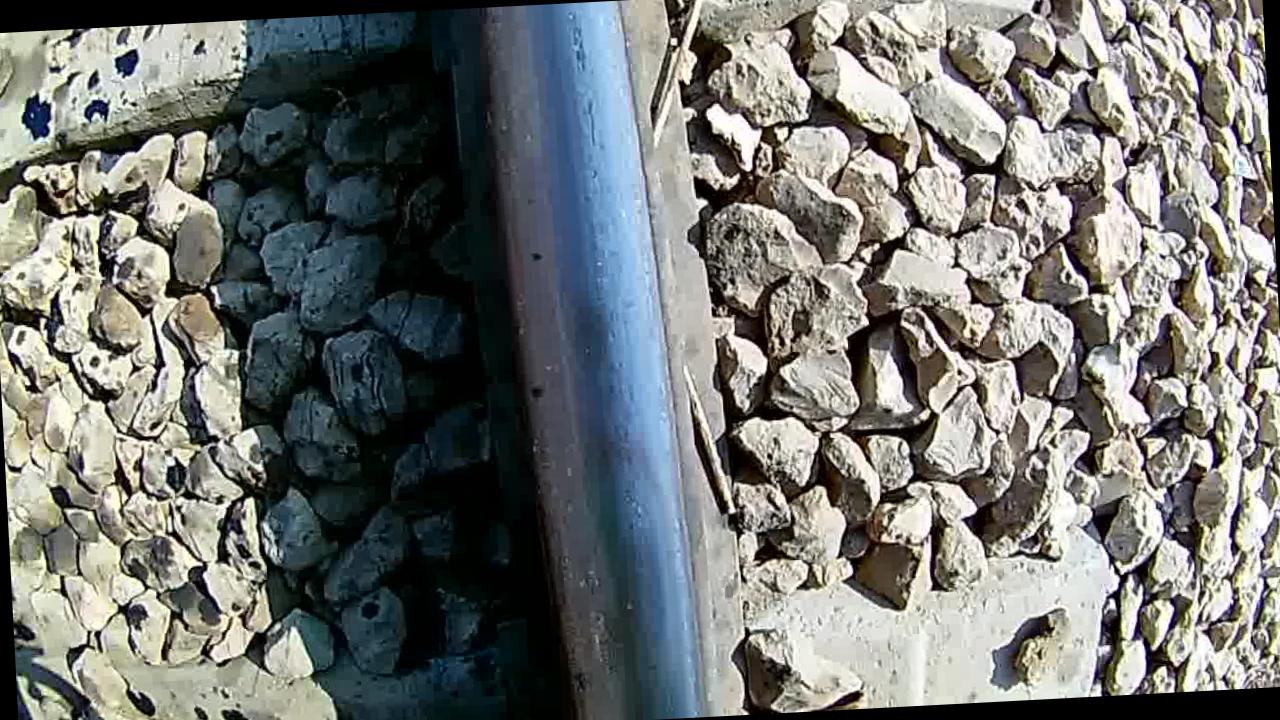crack: (482, 0, 686, 720)
